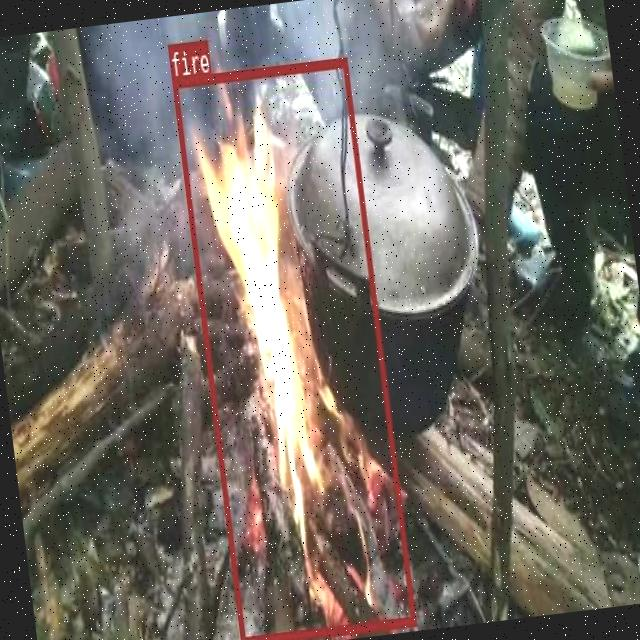fire: (170, 55, 414, 640)
